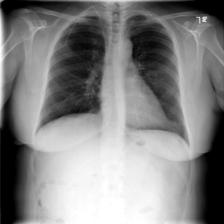normal: (31, 6, 194, 148)
